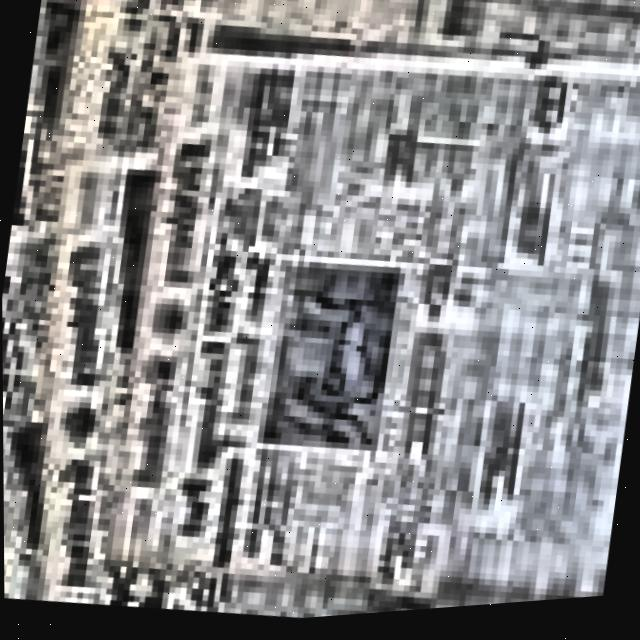paper: (2, 0, 640, 623)
